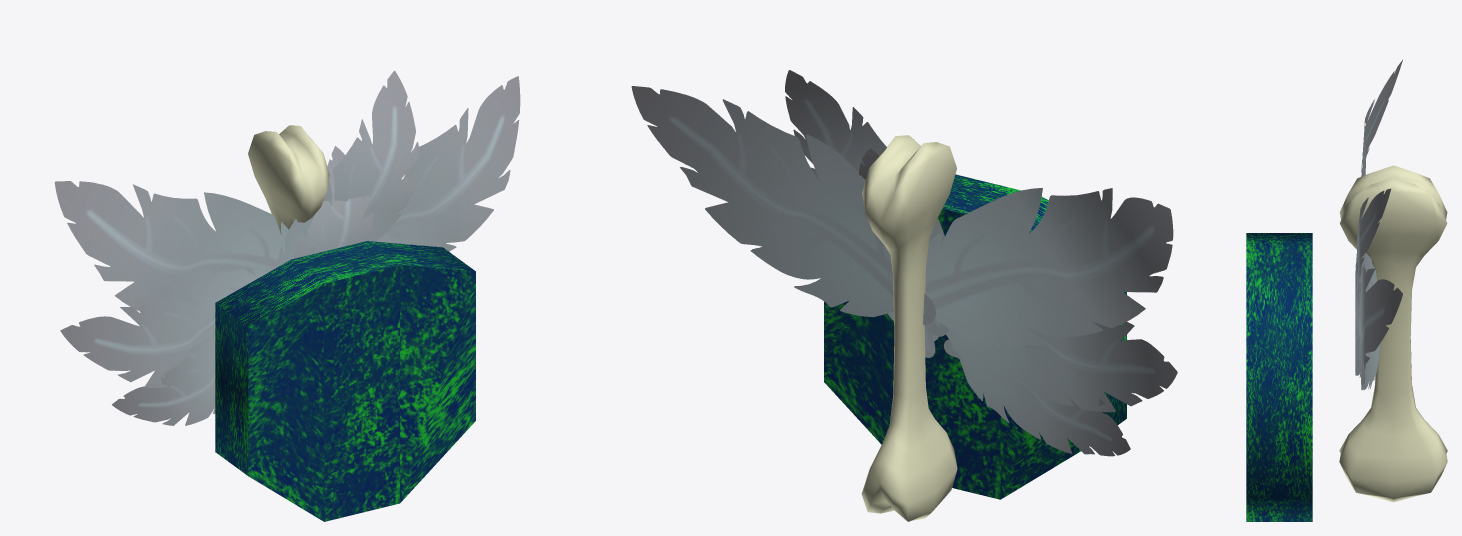
File: FeatherIdol.fbx
3 renders of one model, left to right at view 1: azimuth 30°, elevation 25°; view 2: azimuth 150°, elevation 25°; view 3: azimuth 270°, elevation 25°, orthographic. The views are drawn at different scales.
Parts seen in each view (by area): view 1: Idol, Feather (1) (×3), Feather, Feather (2) (×2), Bone; view 2: Feather (1) (×3), Feather, Bone, Idol, Feather (2); view 3: Idol, Bone, Feather (1) (×2), Feather, Feather (2) (×2).
Part boxes in pixels (x1,y1,x2,y2): Idol: (215,241,475,521); Feather (1) (×3): (60,70,520,387); Feather: (54,181,288,311); Feather (2) (×2): (112,146,373,425); Bone: (248,125,329,234); Feather (1) (×3): (631,70,1177,412); Feather: (893,188,1173,348); Bone: (861,135,957,521); Idol: (824,174,1126,499); Feather (2): (943,339,1130,456); Idol: (1246,233,1312,521); Bone: (1339,165,1447,502); Feather (1) (×2): (1357,188,1402,390); Feather: (1361,60,1402,337); Feather (2) (×2): (1355,247,1366,377).
Size of the model in its own units: 1.36 by 0.9643 by 0.4338.
